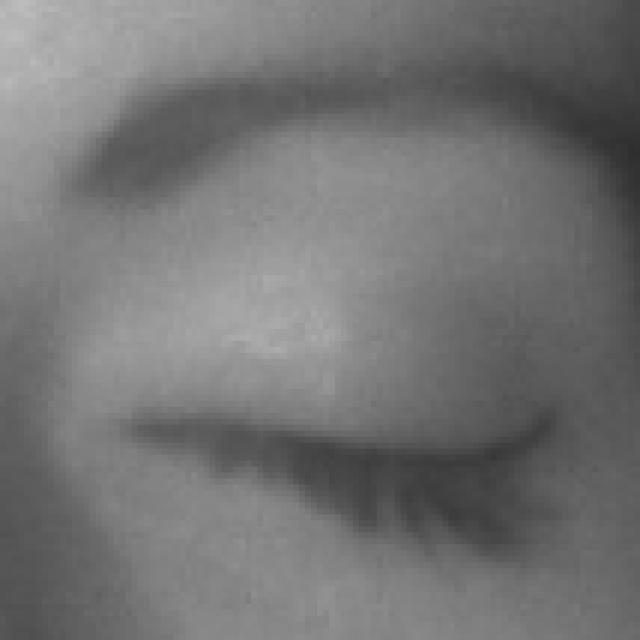Eyeclosed: (152, 247, 560, 640)
